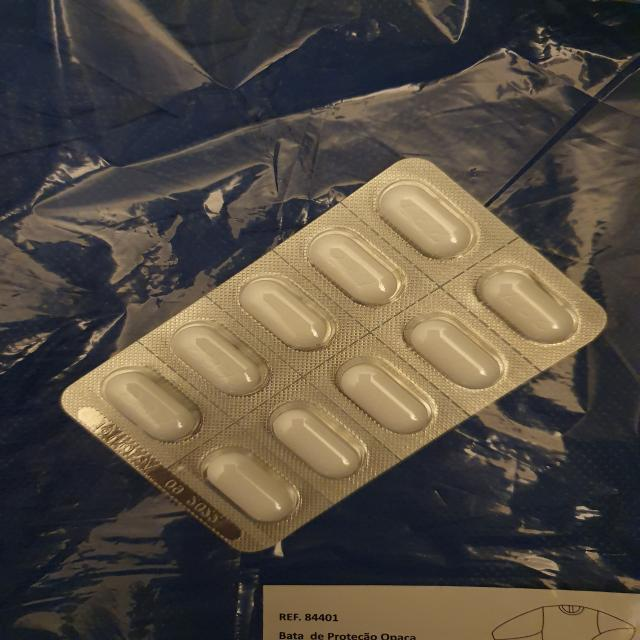Pill: (386, 289, 535, 405), (358, 167, 504, 281), (451, 249, 595, 360), (239, 386, 392, 489), (85, 354, 235, 459), (146, 306, 296, 410), (315, 337, 451, 446), (279, 218, 419, 322), (218, 259, 351, 365), (193, 432, 326, 537)
